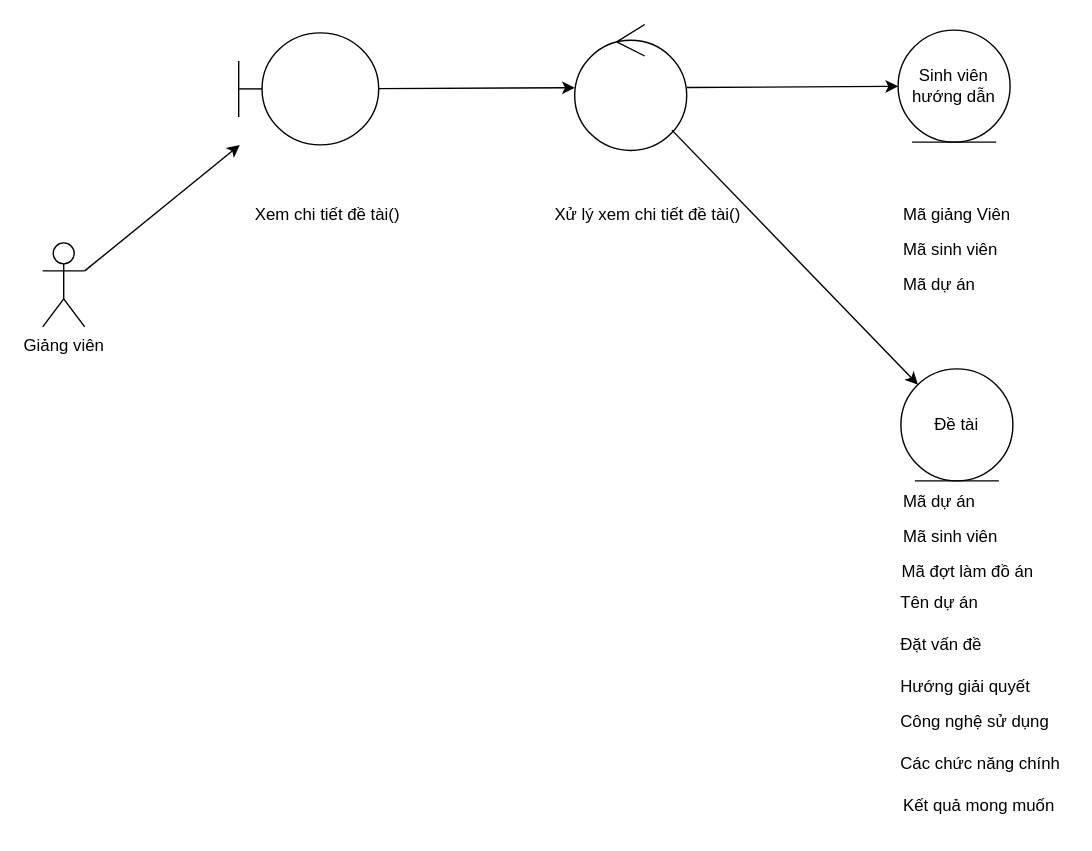
The diagram is 1092 pixels wide and 851 high, and some of its shapes have lost their labels. The shapes that lost their labels are listed below. From the top down, each one's box as (x1, y1, x2, y2) in pixels, then its label:
(237, 31, 379, 145): GUI_Quản lý sinh viên hướng dẫn
(573, 23, 687, 150): CTL_Giảng viên
